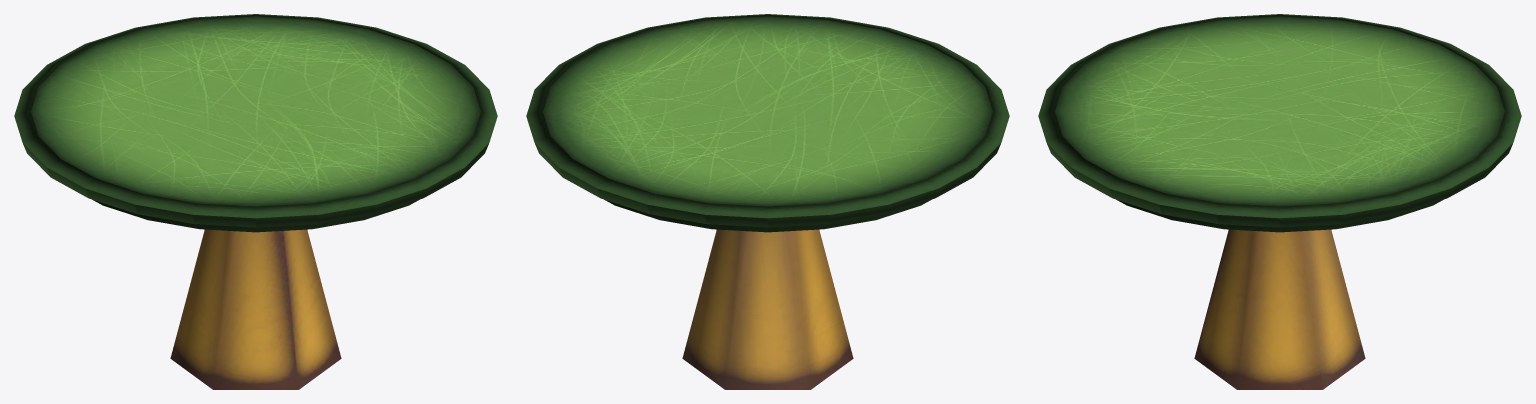
The model's file is table-round-01.glb.
3 views of the same model, side by side, from view 1: azimuth 30°, elevation 25°; view 2: azimuth 150°, elevation 25°; view 3: azimuth 270°, elevation 25° (orthographic).
Parts seen in each view (by area): view 1: Table_Round_01; view 2: Table_Round_01; view 3: Table_Round_01.
Part boxes in pixels (box(x1,y1,x2,y2)): Table_Round_01: box(14, 14, 497, 389); Table_Round_01: box(526, 14, 1009, 389); Table_Round_01: box(1038, 14, 1521, 389).
Size of the model in its own units: 1.21 by 0.6828 by 1.21.
1 material, 1 textured.
